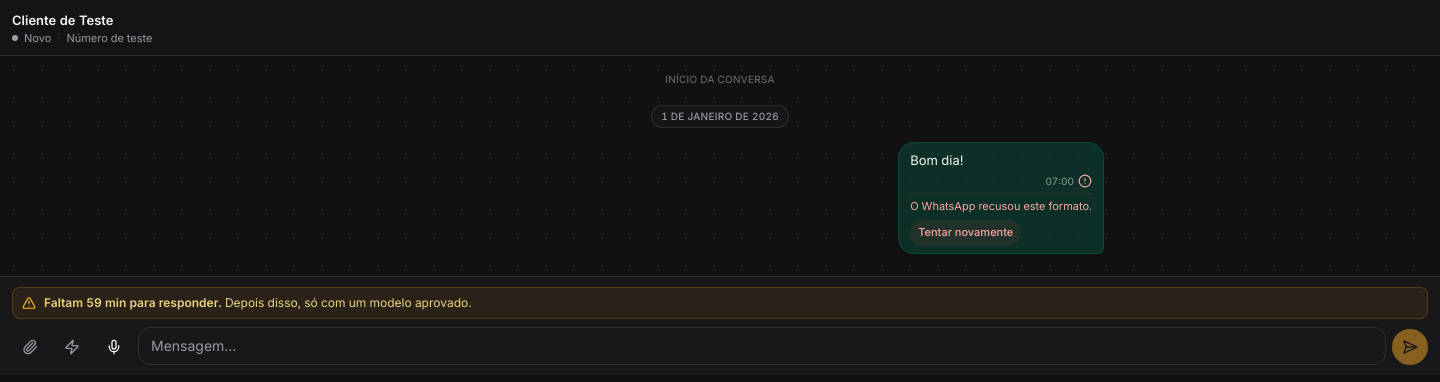
MessageThread — reenvio › envia id e versão da linha e mostra a mensagem como enviada
Click the button "Tentar novamente".
click(966, 233)  # box [910,220,1021,246]
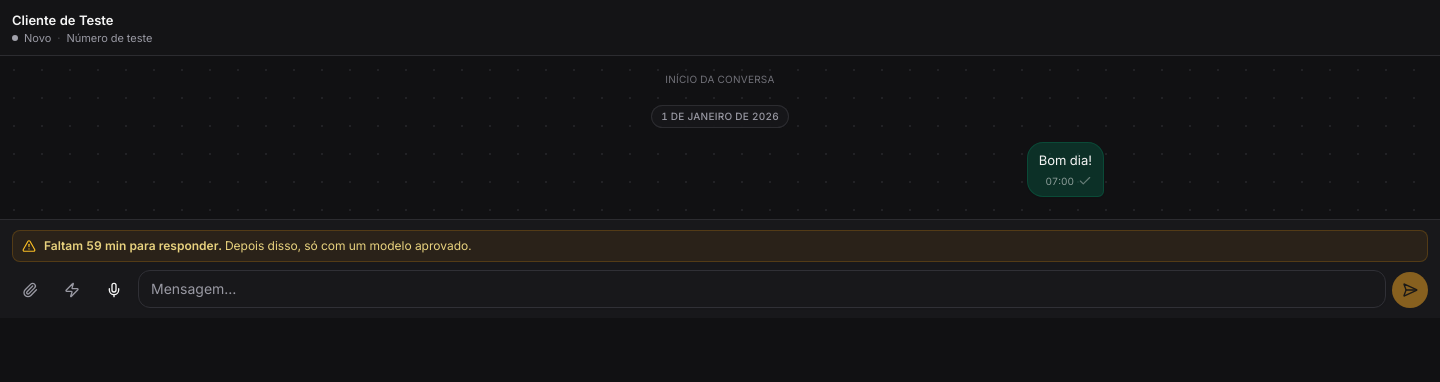
Result: the button "Tentar novamente" is gone
